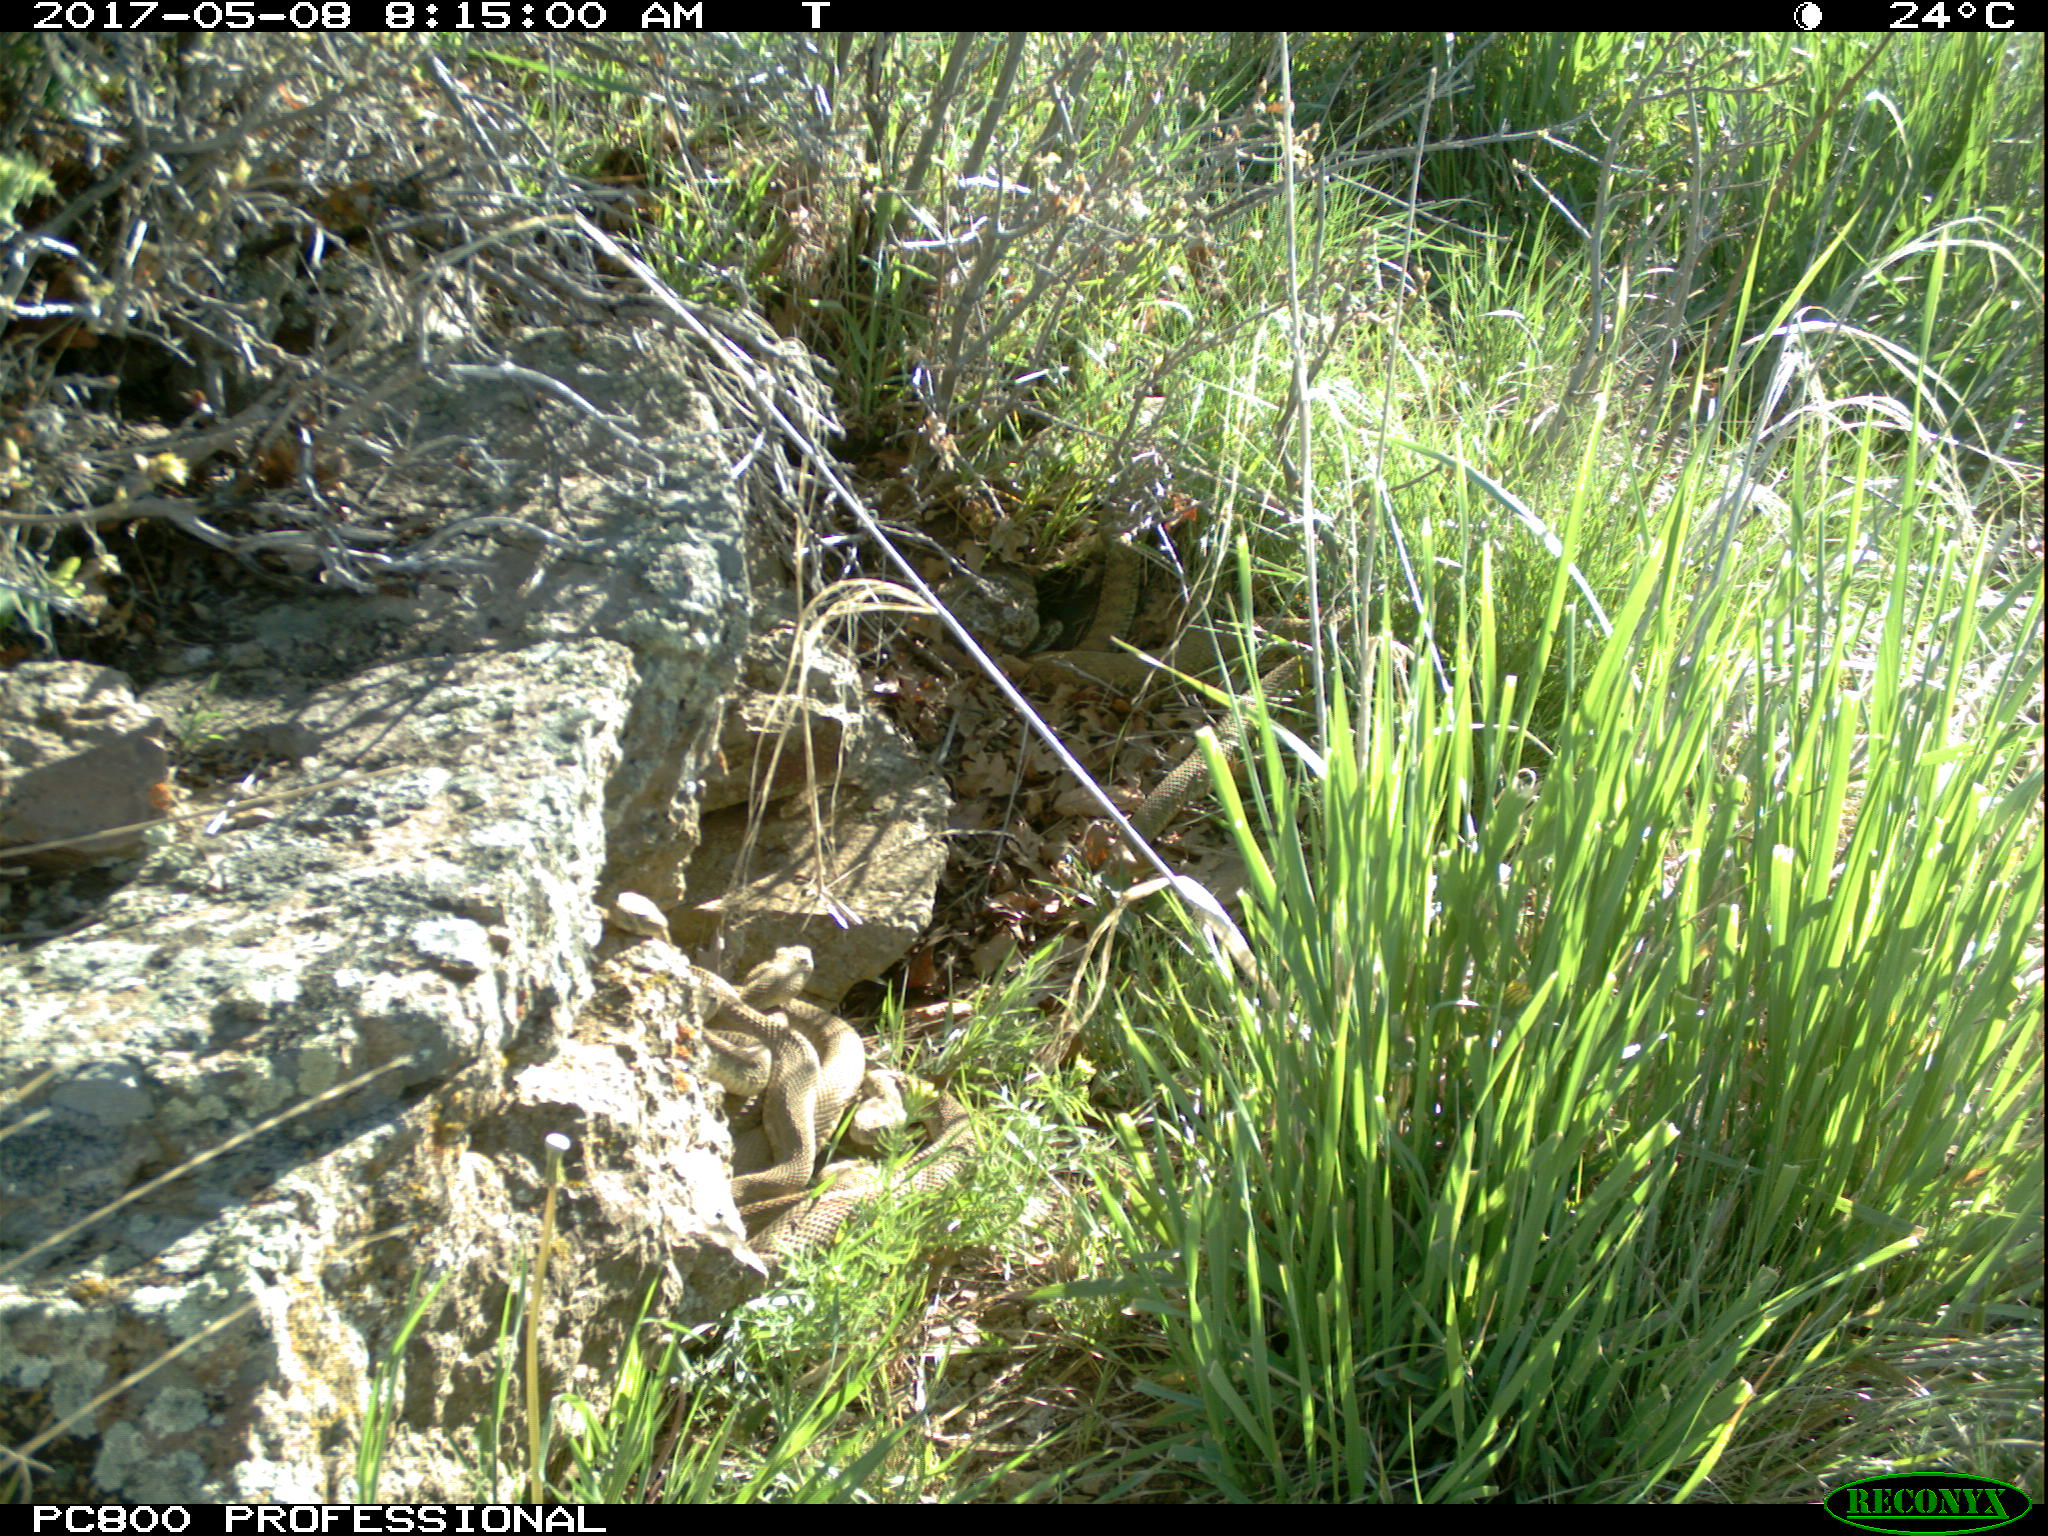snake: (756, 1062, 1001, 1271), (672, 941, 874, 1183), (1105, 665, 1303, 847), (1072, 495, 1237, 699)
